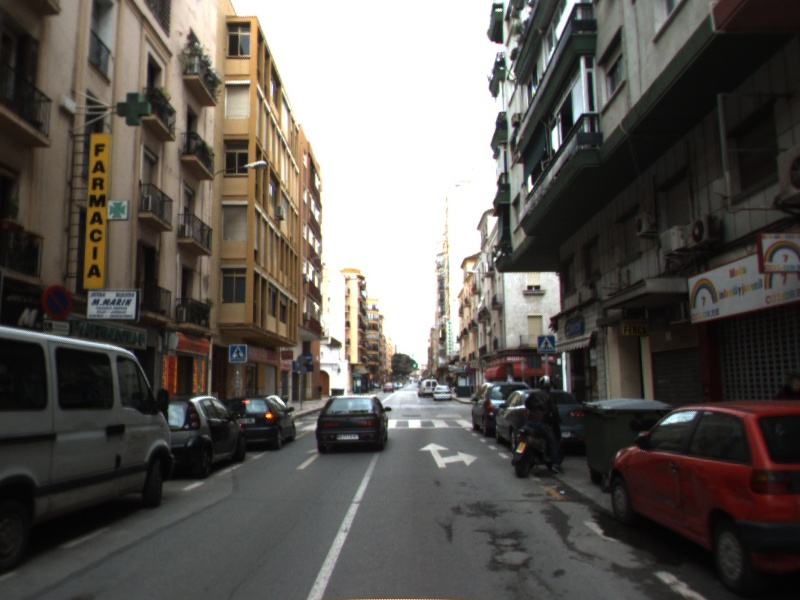STRAIGHT: (295, 448, 323, 471)
STRAIGHT_RIGHT: (417, 441, 479, 469)
